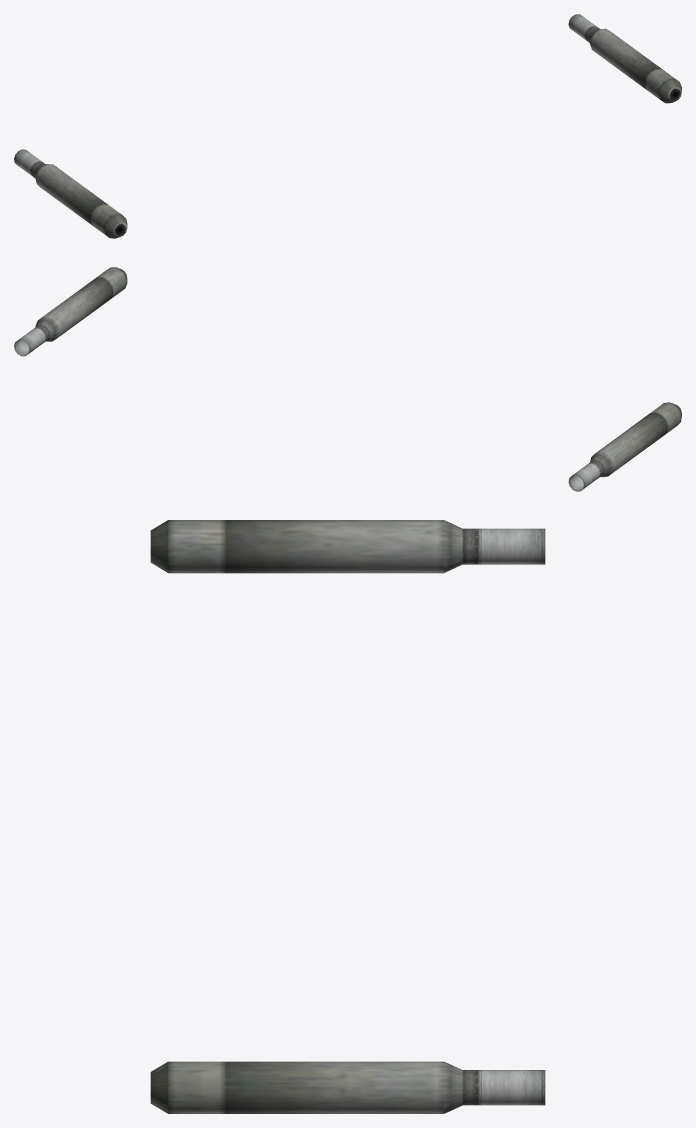
Rendered from hutt_fighter_medium_weapon1_s05_l0.fbx.
3 views of the same model, one above another, from view 1: azimuth 30°, elevation 25°; view 2: azimuth 150°, elevation 25°; view 3: azimuth 270°, elevation 25° (orthographic). The views are drawn at different scales.
Parts seen in each view (by area): view 1: mesh_node; view 2: mesh_node; view 3: mesh_node.
Part boxes in pixels (x1,y1,x2,y2): mesh_node: (14, 14, 681, 238); mesh_node: (14, 267, 681, 491); mesh_node: (150, 520, 545, 1113).
Size of the model in its own units: 3.13 by 0.1245 by 0.9273.
1 material, 1 textured.
